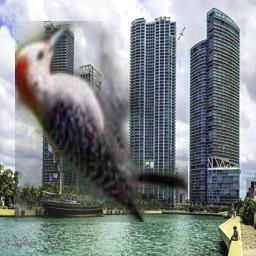Woodpecker: (15, 21, 188, 222)
